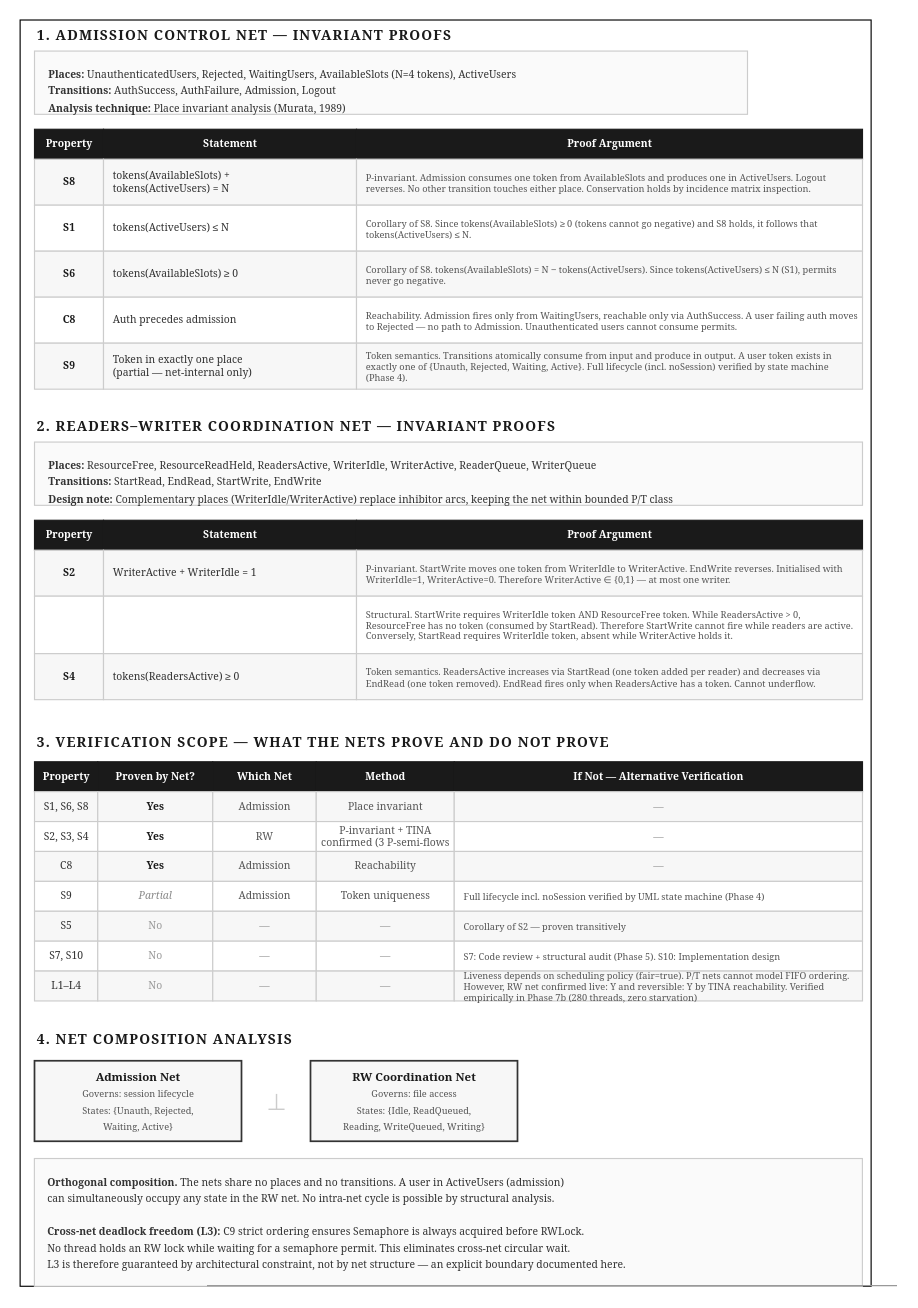
Image size: 918x1308. Some labels were removed from this diagram. Each missing label, with the centre of its shape:
S3: point 68,624
¬(WriterActive ∧ ReadersActive > 0): point 229,624
